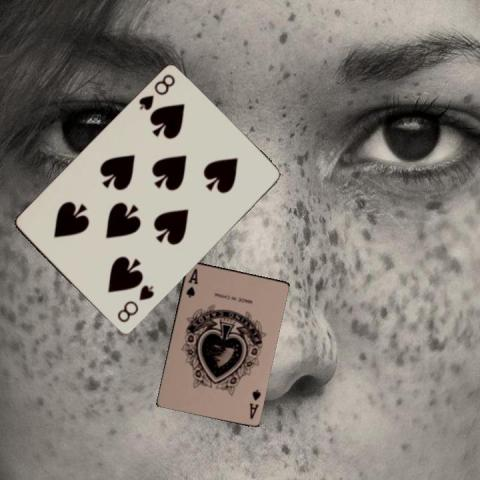8s: (114, 282, 156, 325), (135, 71, 177, 113)
As: (183, 265, 199, 299), (246, 386, 262, 420)
